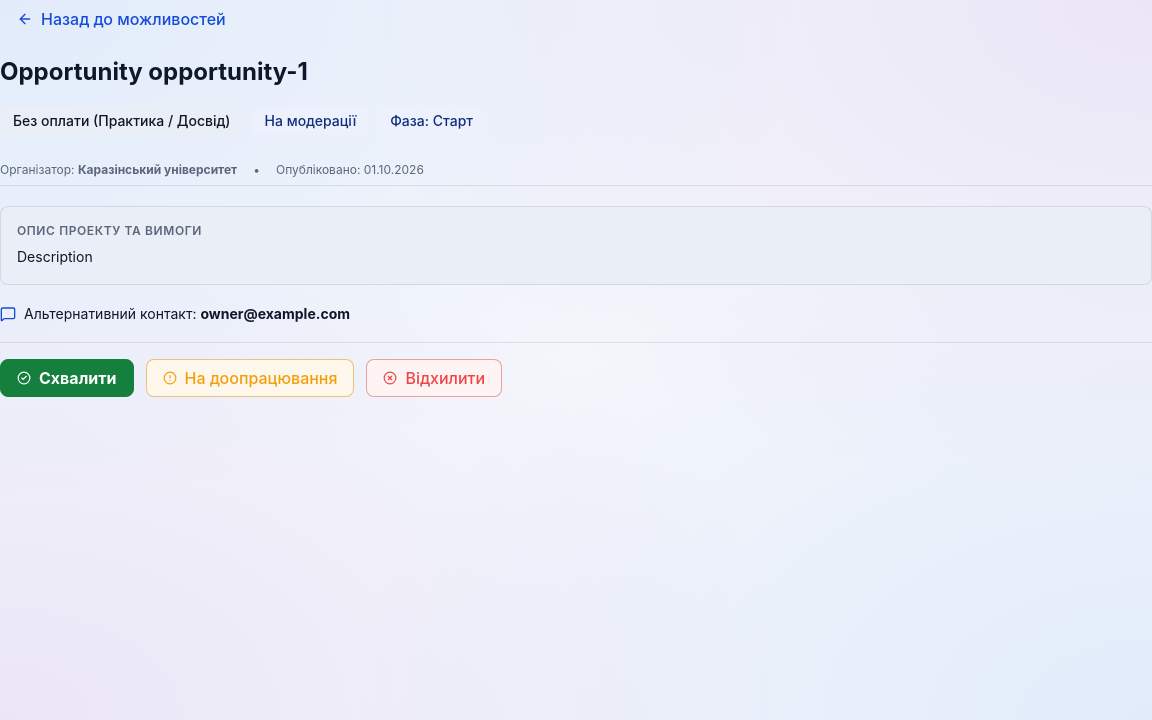
Test: opportunity detail moderation › should submit REQUIRE_CHANGES with the moderator comment
Click the button "На доопрацювання" at [250, 378], box left=146, top=359, right=354, bottom=397
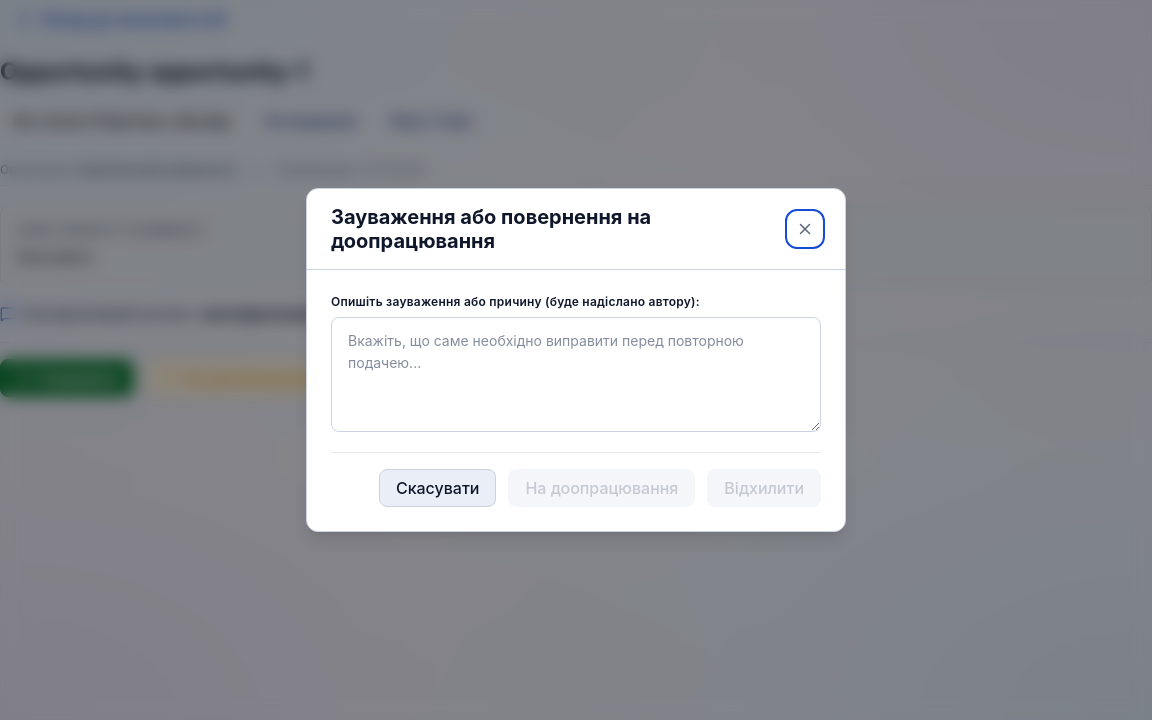
Type "Please clarify the requirements" into the text box at [576, 374], box left=331, top=317, right=821, bottom=432
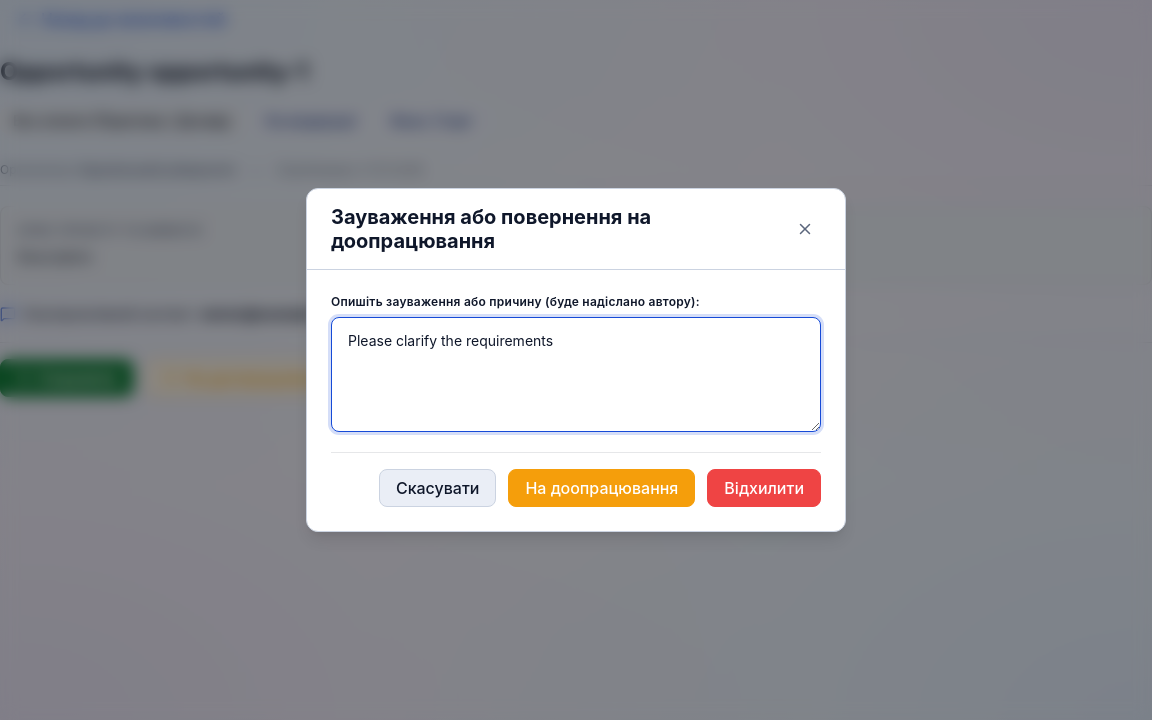
Click the button "На доопрацювання" at [602, 488], box left=508, top=469, right=695, bottom=507
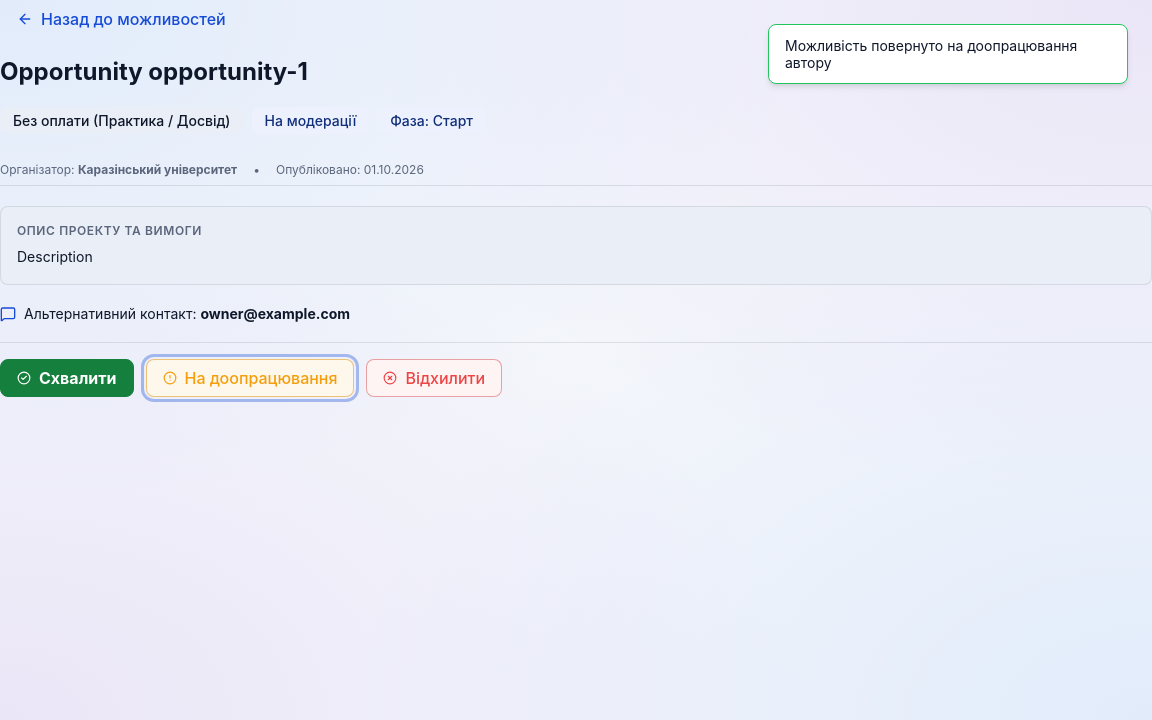
Result: the dialog is gone
